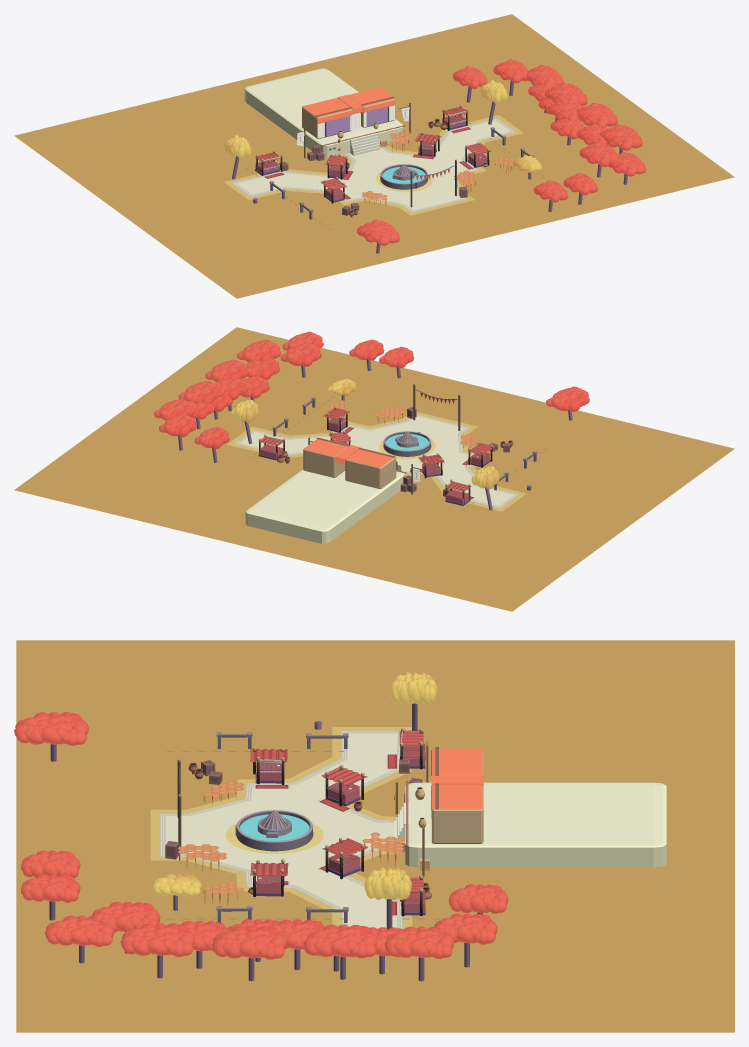
Rendered from plaza.glb.
The picture shows the model from 3 angles, top to bottom: view 1: azimuth 30°, elevation 25°; view 2: azimuth 150°, elevation 25°; view 3: azimuth 270°, elevation 25°; orthographic projection. The views are drawn at different scales.
Visible parts, largest first — view 1: FLOOR_sand, FLOOR_pavement, ARCH_terrace, FLOOR_sand_light, ARCH_building_west, ARCH_building_east, FLOOR_stripe1, WOOD_S1_canopy_red_light, FLOOR_stripe0, WOOD_E8_canopy_red_light, FLOOR_stripe2, WOOD_E9_canopy_red_light (+3 smaller); view 2: FLOOR_sand, ARCH_terrace, FLOOR_pavement, ARCH_building_west, FLOOR_sand_light, ARCH_building_east, FOUNTAIN_rim, WOOD_S1_canopy_red_light, WOOD_E8_canopy_red_light, WOOD_E9_canopy_red_light; view 3: FLOOR_sand, ARCH_terrace, FLOOR_pavement, FLOOR_sand_light, ARCH_building_east, WOOD_S1_canopy_red_light, WOOD_E8_canopy_red_light, WOOD_E9_canopy_red_light, WOOD_E10_canopy_red_light, WOOD_NE3_canopy_red_light, WOOD_E7_canopy_red_light, ARCH_building_west (+18 smaller).
Part boxes in pixels (x1,y1,x2,y2): FLOOR_sand: (14,14,734,298); FLOOR_pavement: (238,120,509,209); ARCH_terrace: (244,68,403,158); FLOOR_sand_light: (224,115,523,215); ARCH_building_west: (302,98,352,138); ARCH_building_east: (348,87,394,127); FLOOR_stripe1: (233,119,513,211); WOOD_S1_canopy_red_light: (366,219,400,245); FLOOR_stripe0: (231,118,515,212); WOOD_E8_canopy_red_light: (610,124,642,150); FLOOR_stripe2: (235,119,512,210); WOOD_E9_canopy_red_light: (585,103,618,127); FLOOR_sand: (14,327,734,611); ARCH_terrace: (245,469,404,543); FLOOR_pavement: (241,416,512,505); ARCH_building_west: (345,448,396,488); FLOOR_sand_light: (227,412,526,511); ARCH_building_east: (303,438,349,477); FOUNTAIN_rim: (383,431,431,456); WOOD_S1_canopy_red_light: (546,386,588,410); WOOD_E8_canopy_red_light: (237,339,279,362); WOOD_E9_canopy_red_light: (205,359,247,382); FLOOR_sand: (16,640,734,1032); ARCH_terrace: (405,782,666,867); FLOOR_pavement: (167,733,396,928); FLOOR_sand_light: (150,727,412,929); ARCH_building_east: (431,784,483,843); WOOD_S1_canopy_red_light: (14,715,88,745); WOOD_E8_canopy_red_light: (120,926,195,956); WOOD_E9_canopy_red_light: (212,929,286,959); WOOD_E10_canopy_red_light: (303,928,378,958); WOOD_NE3_canopy_red_light: (384,930,454,958); WOOD_E7_canopy_red_light: (44,919,114,946); ARCH_building_west: (431,748,483,775).
Bounding box in the file's own units: 142 × 10.83 × 110.
Materials: 68 (4 with a texture image).
